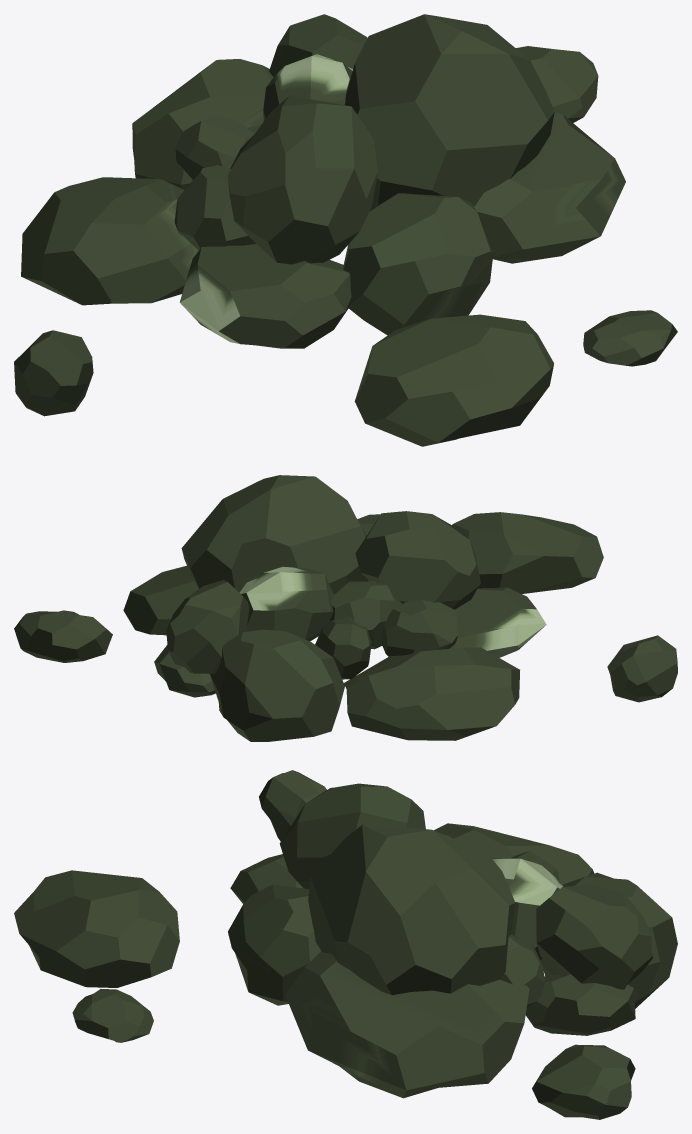
The model's file is EA_Swamp_Stones_Mound_01c.glb.
3 renders of one model, top to bottom at view 1: azimuth 30°, elevation 25°; view 2: azimuth 150°, elevation 25°; view 3: azimuth 270°, elevation 25°, orthographic. The views are drawn at different scales.
Parts seen in each view (by area): view 1: EA_Swamp_Stones_Mound_01c; view 2: EA_Swamp_Stones_Mound_01c; view 3: EA_Swamp_Stones_Mound_01c.
Part boxes in pixels (x1,y1,x2,y2): EA_Swamp_Stones_Mound_01c: (14,14,677,446); EA_Swamp_Stones_Mound_01c: (14,475,677,741); EA_Swamp_Stones_Mound_01c: (14,770,677,1119).
Size of the model in its own units: 6.79 by 2.17 by 5.94.
1 material, 1 textured.
